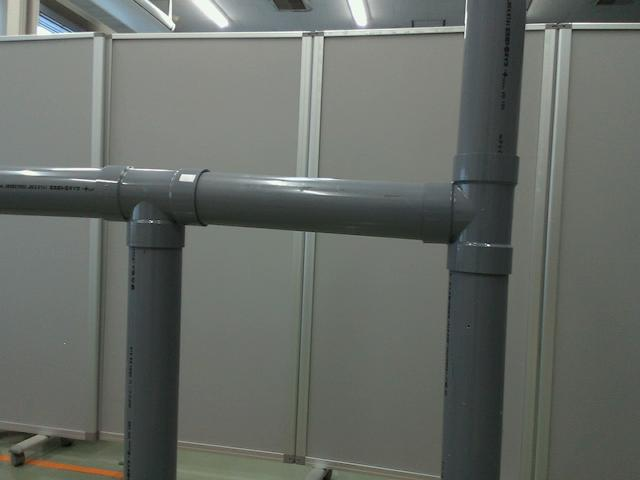junction: (416, 149, 519, 281), (97, 165, 208, 248)
